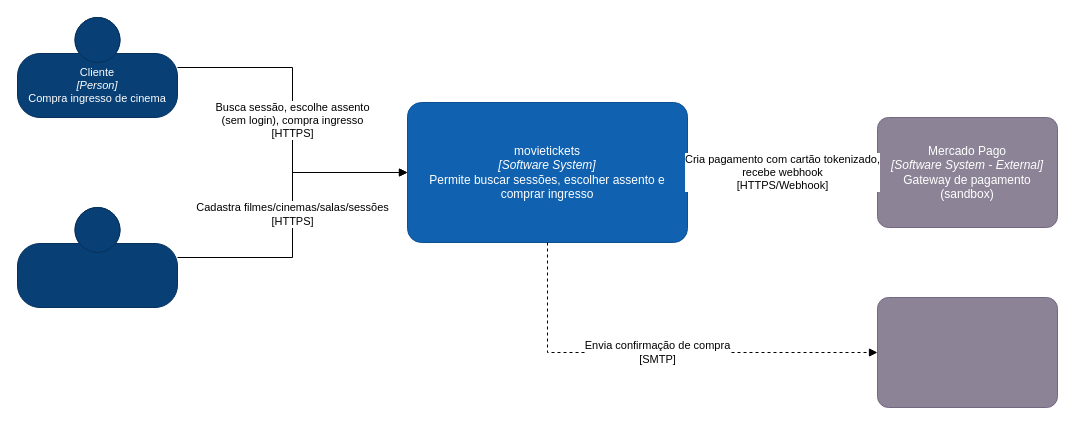
Image size: 1075x425. Some labels were removed from this diagram. The shapes that lost their labels are listed below. From the top down, each one's centre as x and y in pixels, then its label:
At (97,257): "Admin [Person] Cadastra filmes/cinemas/salas/sessões".
At (967,352): "Servidor de e-mail [Software System - External] SMTP (Mailpit em dev)".
